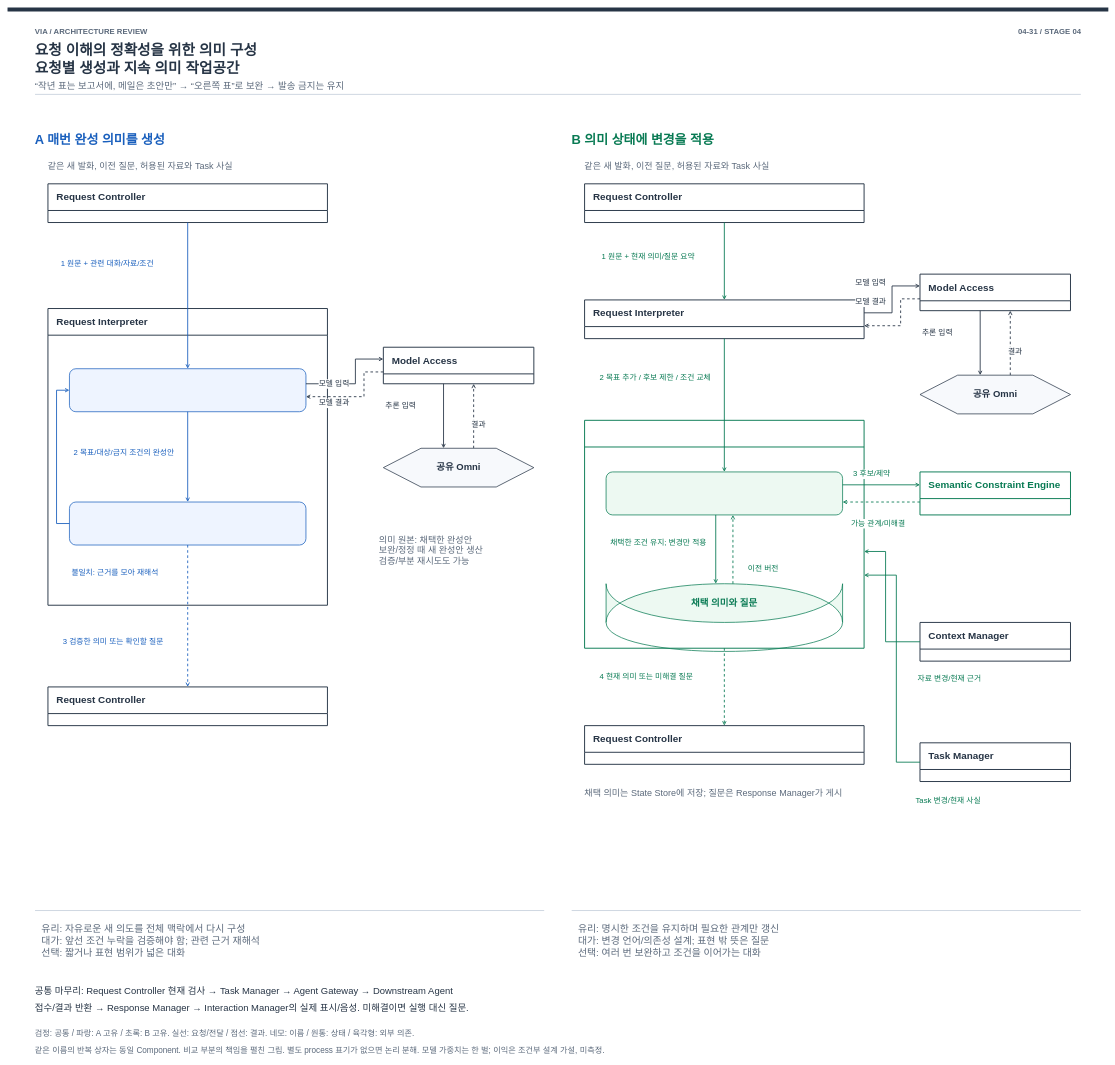
Image size: 1115x1065. Some labels were removed from this diagram. The shapes that lost their labels are listed below. From the top down, each one's box as (x1, y1, x2, y2) in pixels, then its label:
(69, 368, 306, 412): 전체 의미 생성기
(606, 471, 843, 515): 의미 변경 적용기
(69, 501, 306, 545): 대상과 조건 검증기
(584, 420, 864, 648): Meaning Workspace
